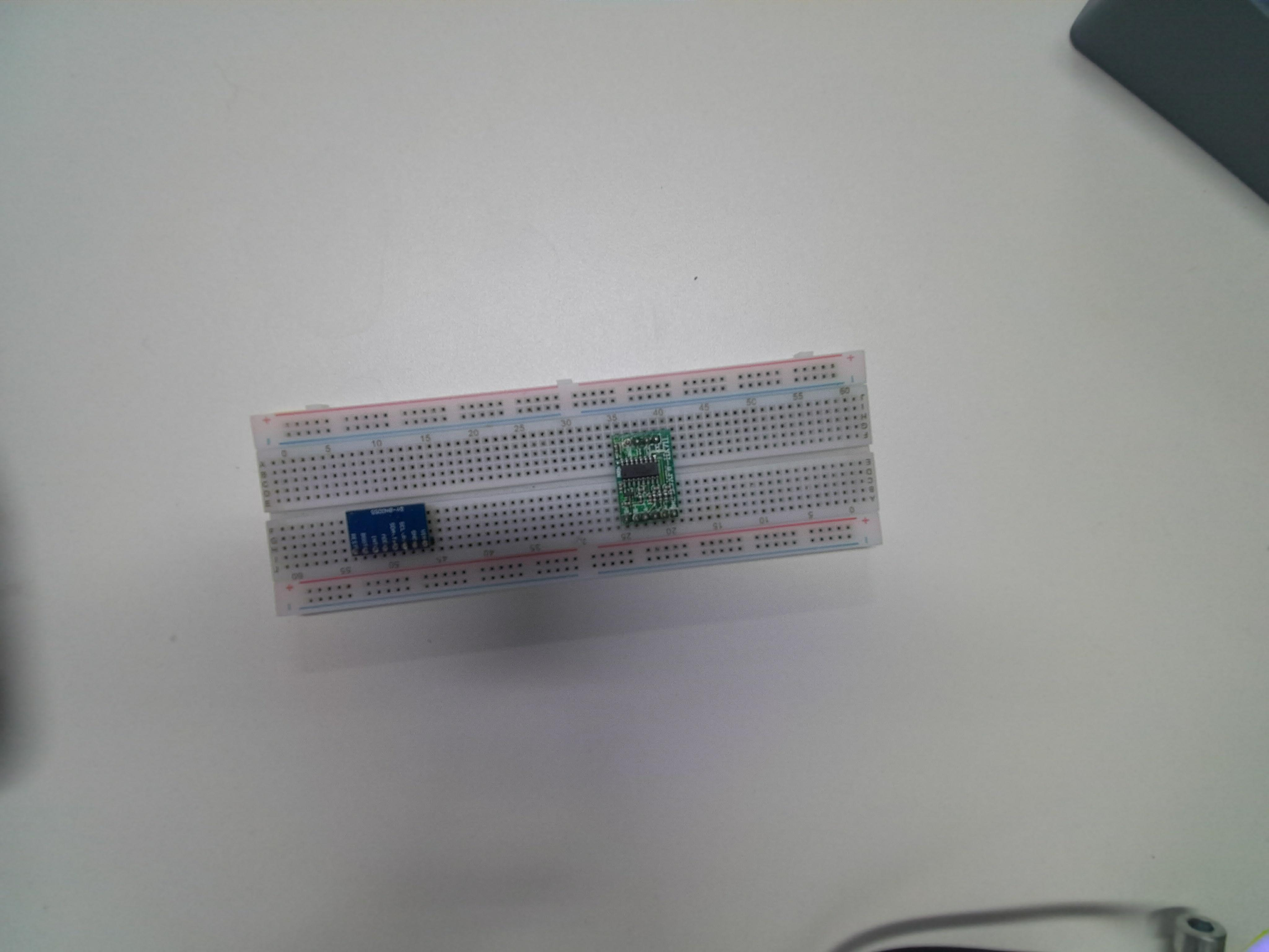base: (248, 350, 887, 621)
blue-board: (345, 499, 435, 560)
green-board: (610, 425, 680, 530)
